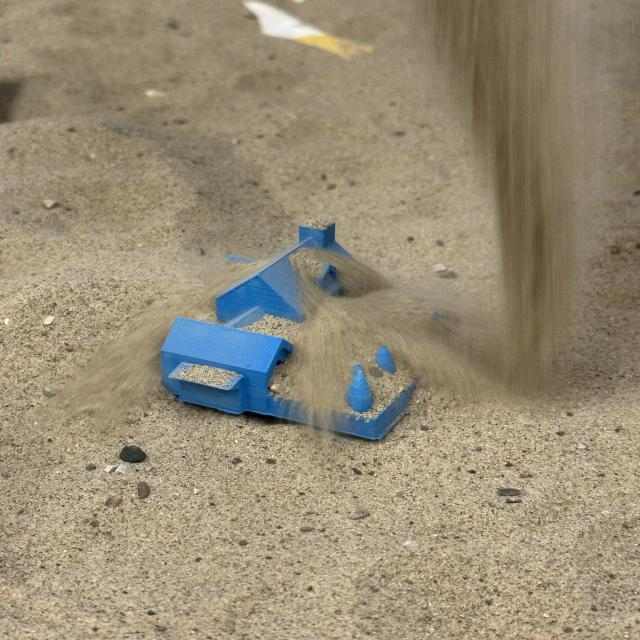house: (159, 219, 455, 439)
